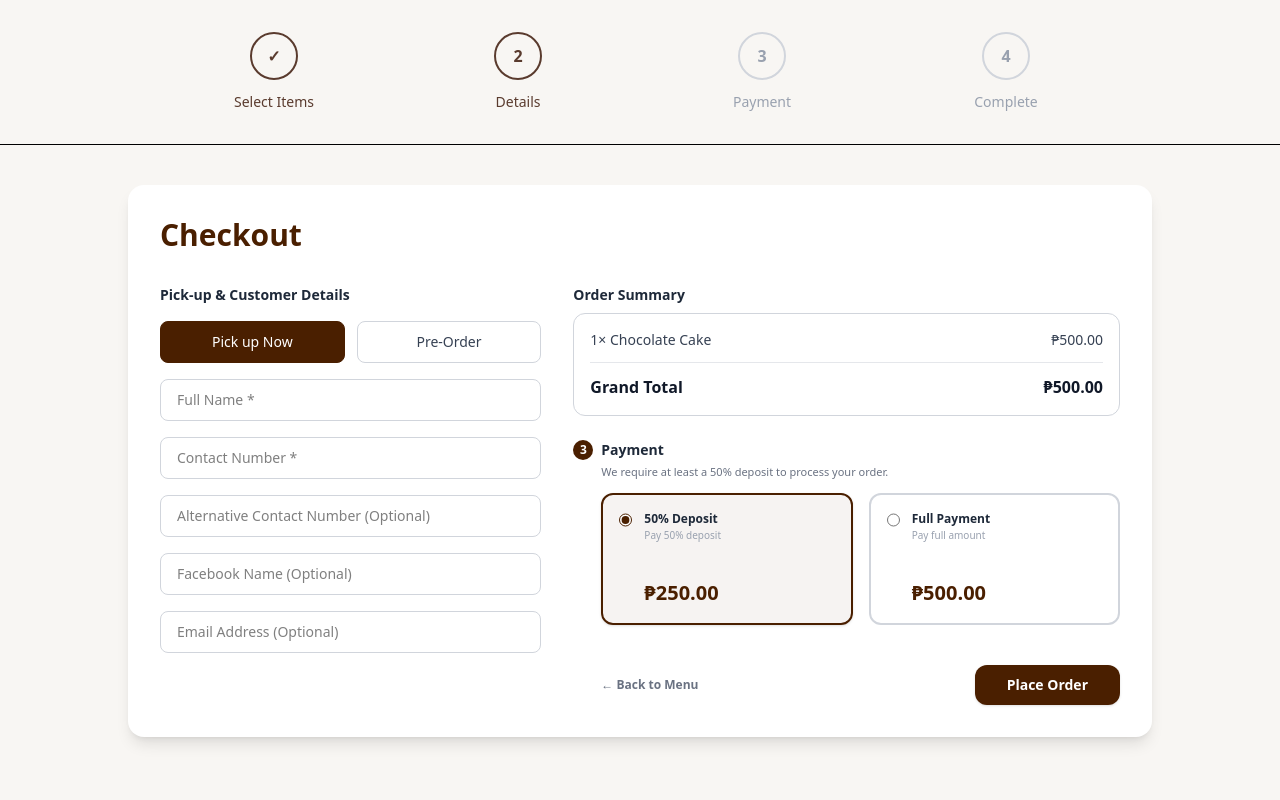
Test: Checkout Page Integration Test (No Component Mocks) › should display date and time fields dynamically when Pre-Order is selected
The image size is (1280, 800).
Click the button "Pre-Order" at (449, 342), box x1=357 y1=321 x2=541 y2=363
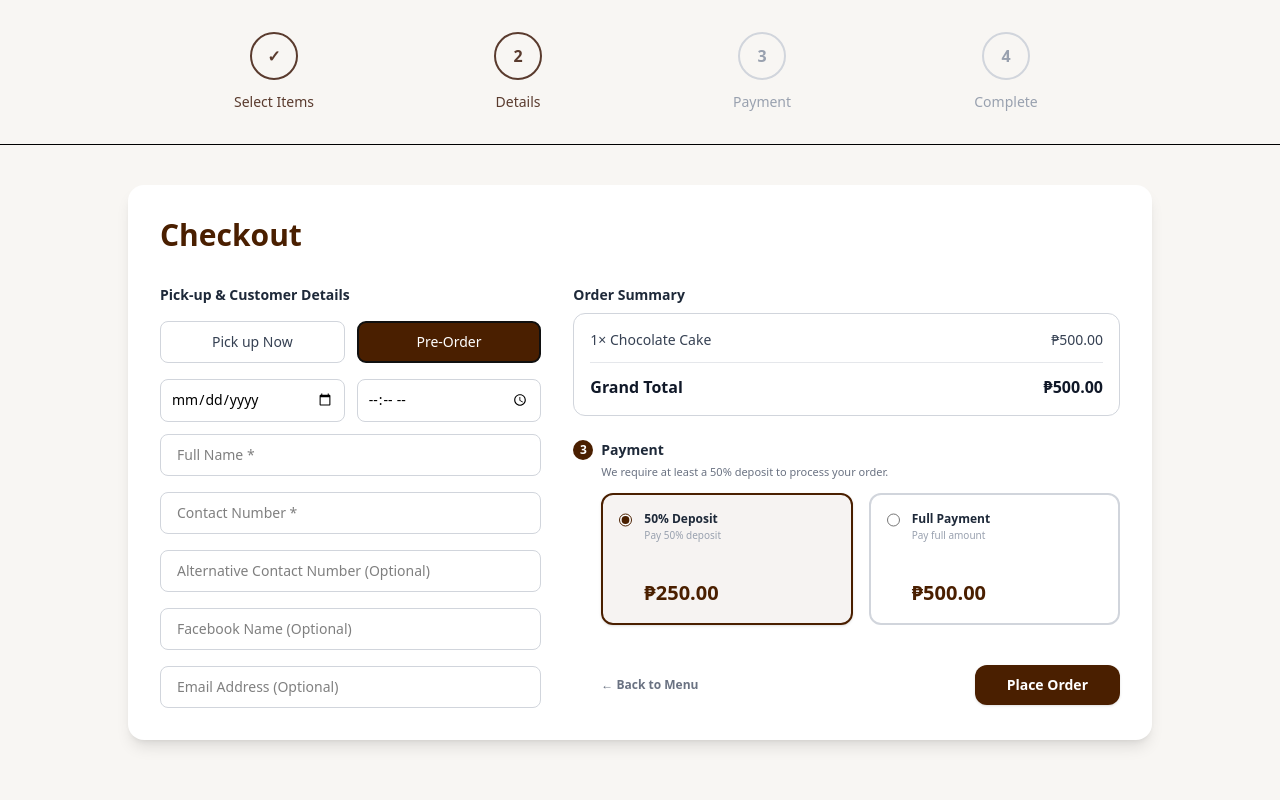
Expected: the date field is shown, x1=160 y1=379 x2=345 y2=422
Expected: the time field is shown, x1=357 y1=379 x2=541 y2=422
